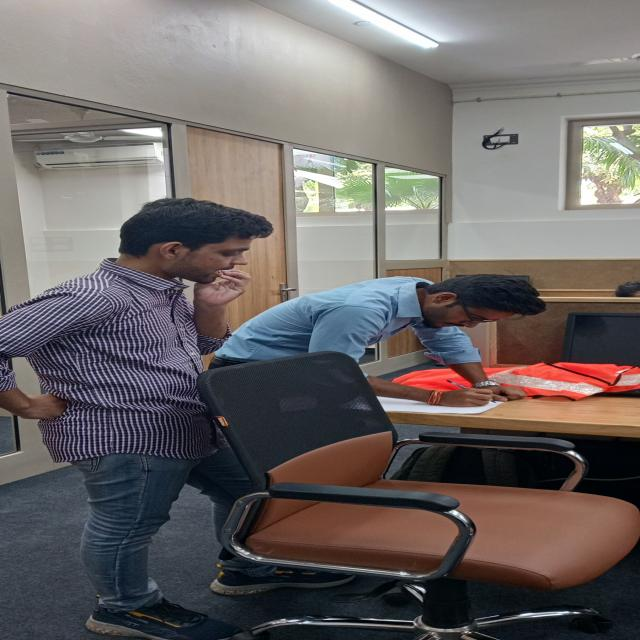unsafe: (19, 197, 262, 640), (243, 258, 552, 428)
